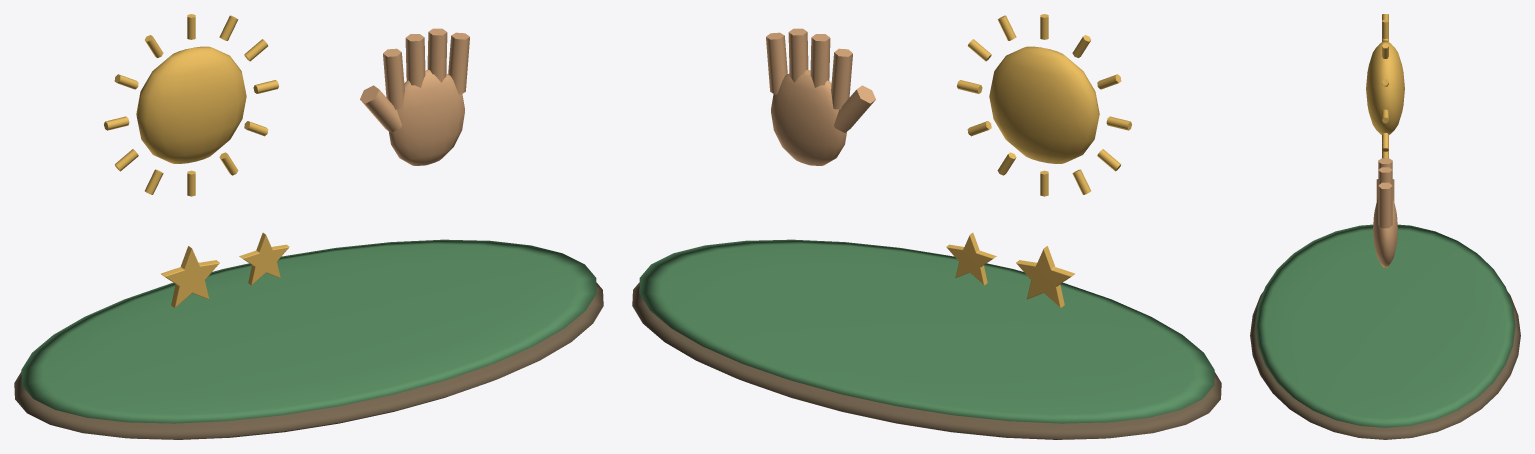
The model's file is complete-first-topmost-sun.glb.
3 views of the same model, side by side, from view 1: azimuth 30°, elevation 25°; view 2: azimuth 150°, elevation 25°; view 3: azimuth 270°, elevation 25° (orthographic). The views are drawn at different scales.
Visible parts, largest first — view 1: complete-first-topmost-sun_surface_01, complete-first-topmost-sun_surface_02, complete-first-topmost-sun_surface_00, complete-first-topmost-sun_surface_03; view 2: complete-first-topmost-sun_surface_01, complete-first-topmost-sun_surface_02, complete-first-topmost-sun_surface_00, complete-first-topmost-sun_surface_03; view 3: complete-first-topmost-sun_surface_01, complete-first-topmost-sun_surface_00, complete-first-topmost-sun_surface_02, complete-first-topmost-sun_surface_03.
Part boxes in pixels (x1,y1,x2,y2): complete-first-topmost-sun_surface_01: [21, 239, 596, 423]; complete-first-topmost-sun_surface_02: [104, 14, 289, 307]; complete-first-topmost-sun_surface_00: [14, 282, 603, 439]; complete-first-topmost-sun_surface_03: [360, 28, 469, 165]; complete-first-topmost-sun_surface_01: [639, 239, 1214, 423]; complete-first-topmost-sun_surface_02: [946, 14, 1131, 307]; complete-first-topmost-sun_surface_00: [632, 282, 1221, 439]; complete-first-topmost-sun_surface_03: [766, 28, 875, 165]; complete-first-topmost-sun_surface_01: [1255, 224, 1515, 427]; complete-first-topmost-sun_surface_00: [1250, 291, 1520, 439]; complete-first-topmost-sun_surface_02: [1366, 14, 1404, 267]; complete-first-topmost-sun_surface_03: [1373, 158, 1397, 267].
Size of the model in its own units: 4.56 by 2.89 by 2.5.
